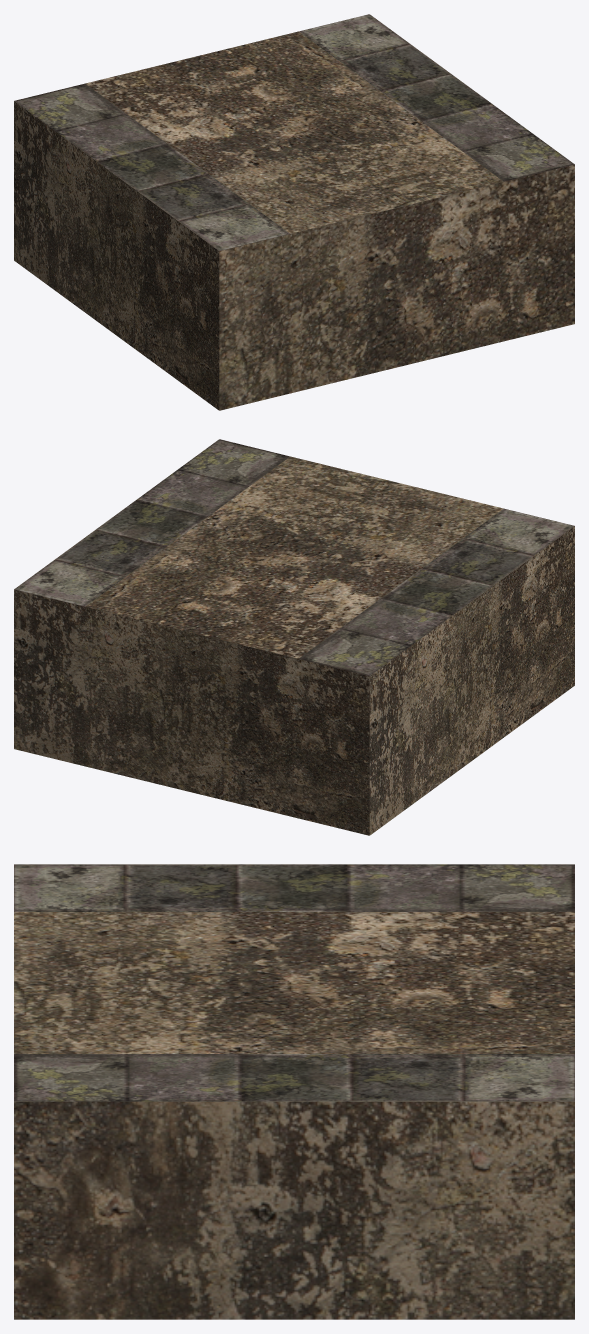
File: materials_5_floor_rectangle_4.fbx
The picture shows the model from 3 angles, top to bottom: view 1: azimuth 30°, elevation 25°; view 2: azimuth 150°, elevation 25°; view 3: azimuth 270°, elevation 25°; orthographic projection. The views are drawn at different scales.
Parts seen in each view (by area): view 1: materials_5_floor_rectangle_4; view 2: materials_5_floor_rectangle_4; view 3: materials_5_floor_rectangle_4.
Part boxes in pixels (bbox=[...]): materials_5_floor_rectangle_4: bbox=[14, 14, 574, 410]; materials_5_floor_rectangle_4: bbox=[14, 439, 574, 835]; materials_5_floor_rectangle_4: bbox=[14, 864, 574, 1319].
Size of the model in its own units: 100 by 42.89 by 100.
